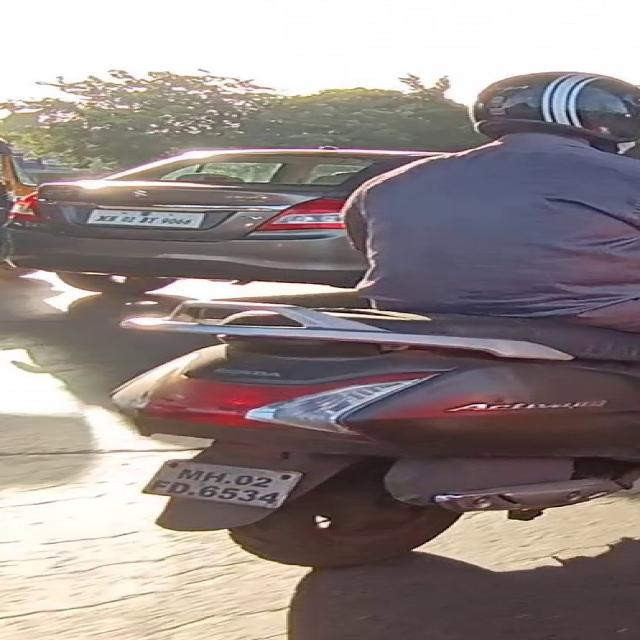Plate: (131, 459, 302, 510)
